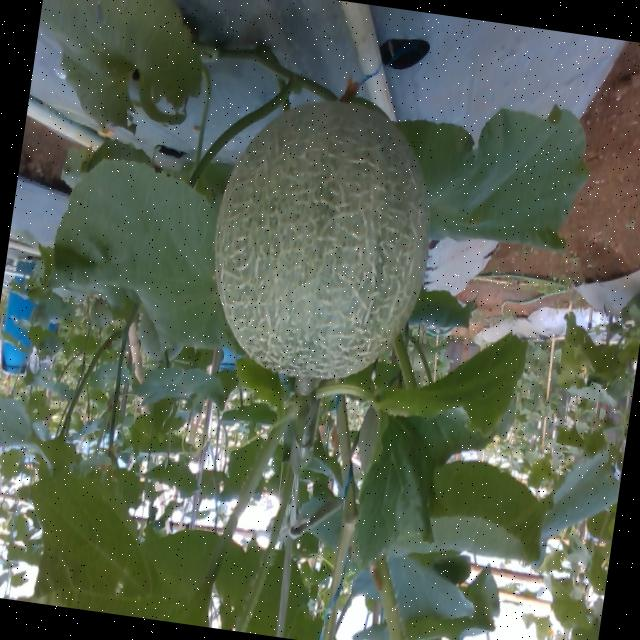melon: (213, 99, 428, 378)
